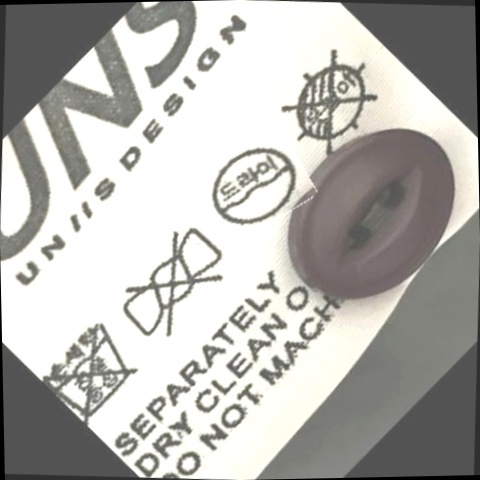DN_dry: (281, 53, 379, 152)
DN_wring: (118, 231, 228, 341)
dry_clean: (212, 141, 299, 232)
hand_wash: (47, 315, 139, 417)
